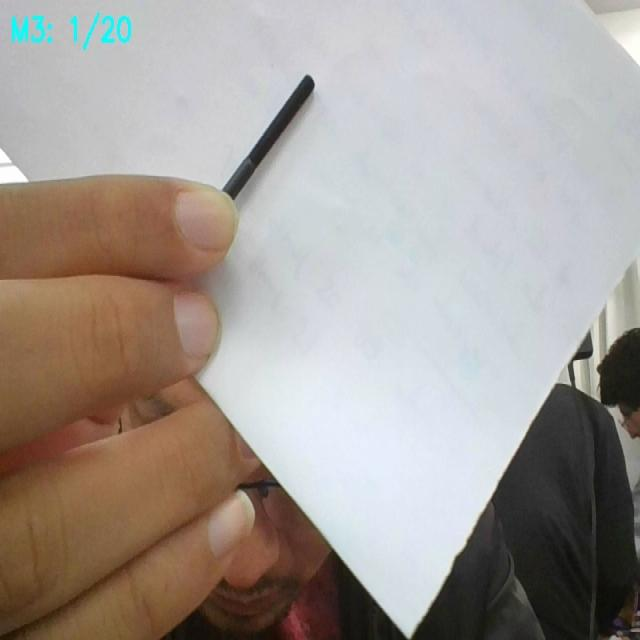vastago: (223, 75, 313, 199)
